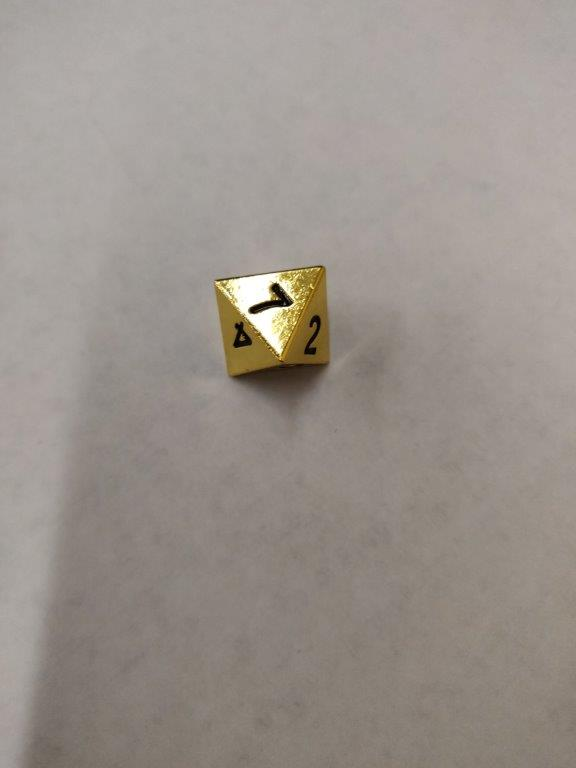d8-7: (212, 261, 331, 385)
